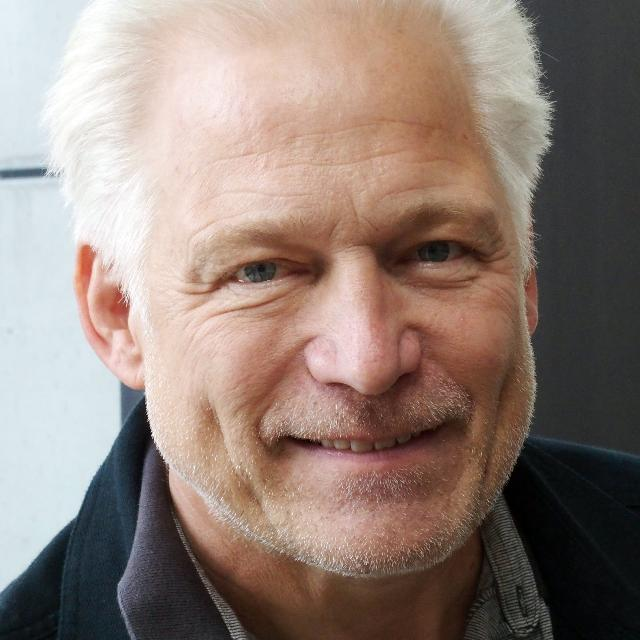crows_feet: (178, 271, 222, 311), (481, 244, 514, 286)
forehead: (288, 148, 400, 176), (376, 175, 458, 199), (380, 111, 450, 135), (208, 184, 286, 203), (208, 147, 264, 169)
frown_line: (333, 230, 372, 260)
masseter: (202, 406, 255, 494), (486, 372, 514, 471)
